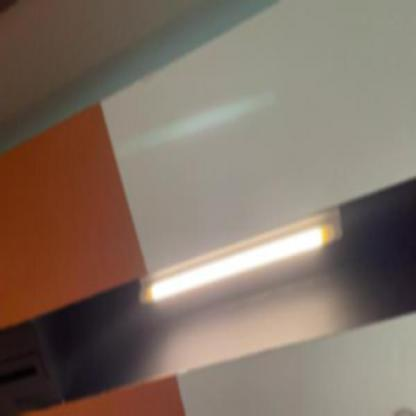light_on: (136, 197, 346, 316)
